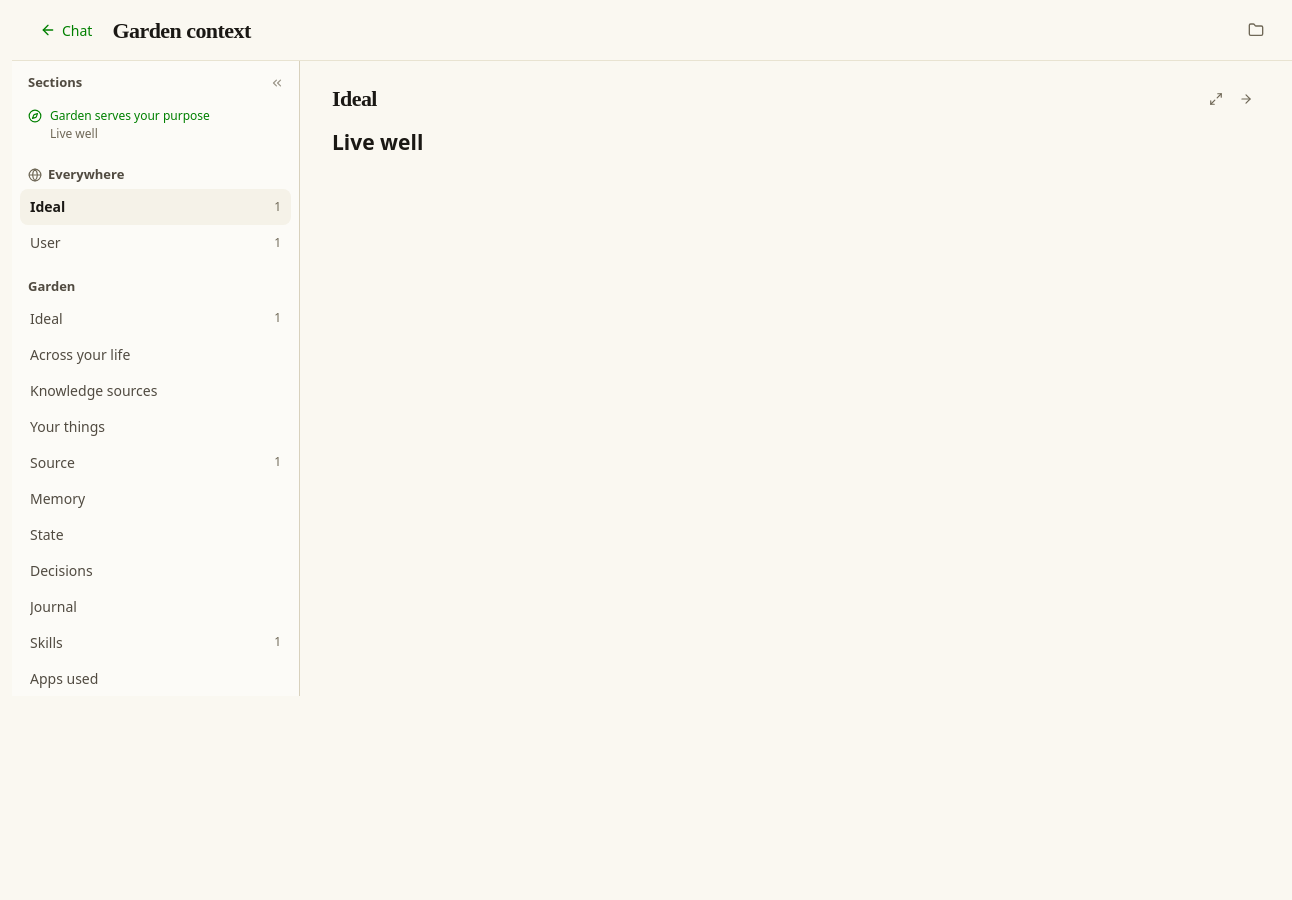
Test: DomainContextView › previews a Source file inline in one click
Click the button with test id "ctx-row-source". click: click(52, 462)
box: [20, 444, 291, 480]
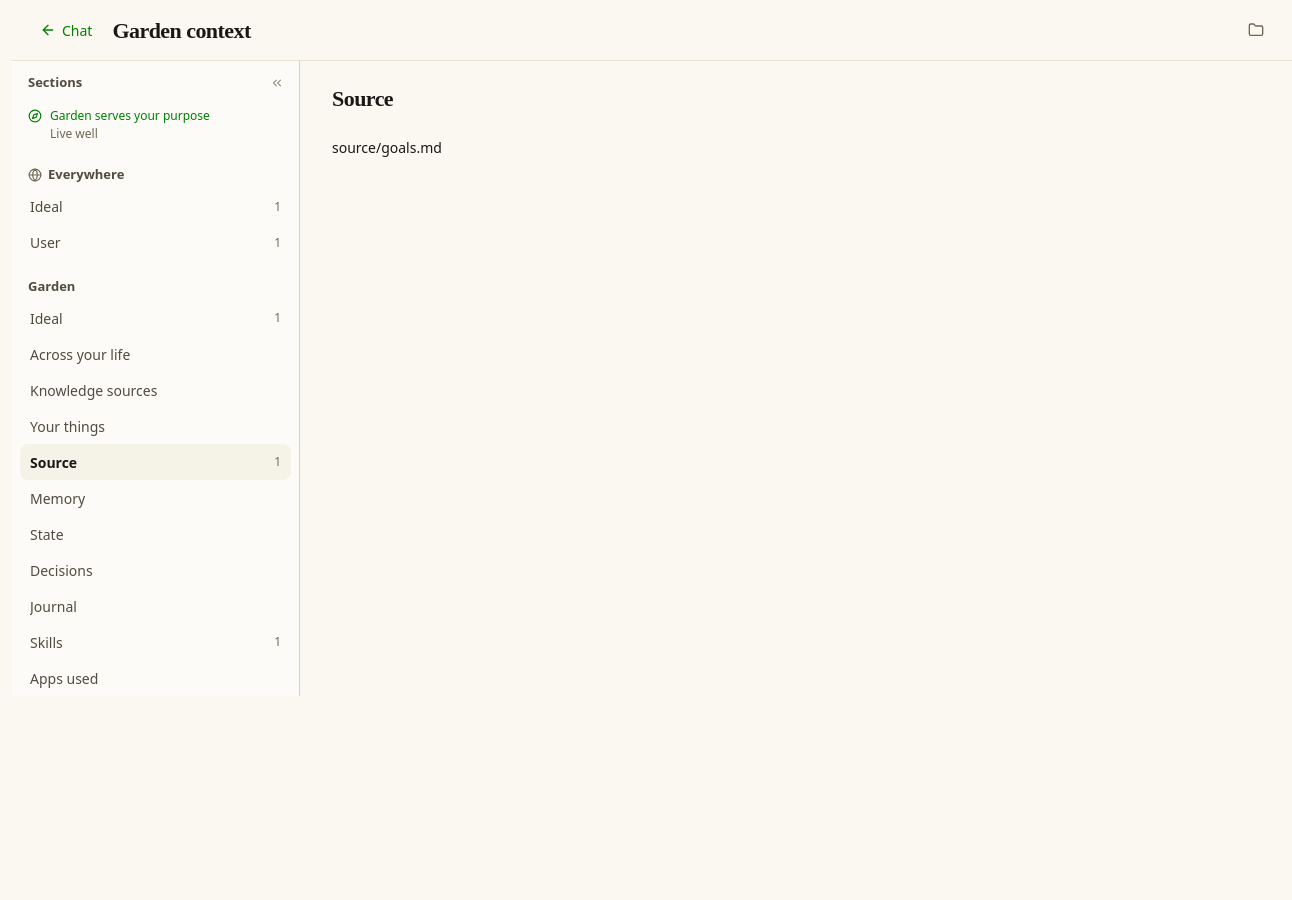
Click the button with test id "ctx-item-source/goals.md". click: click(387, 147)
box: [332, 128, 1068, 166]
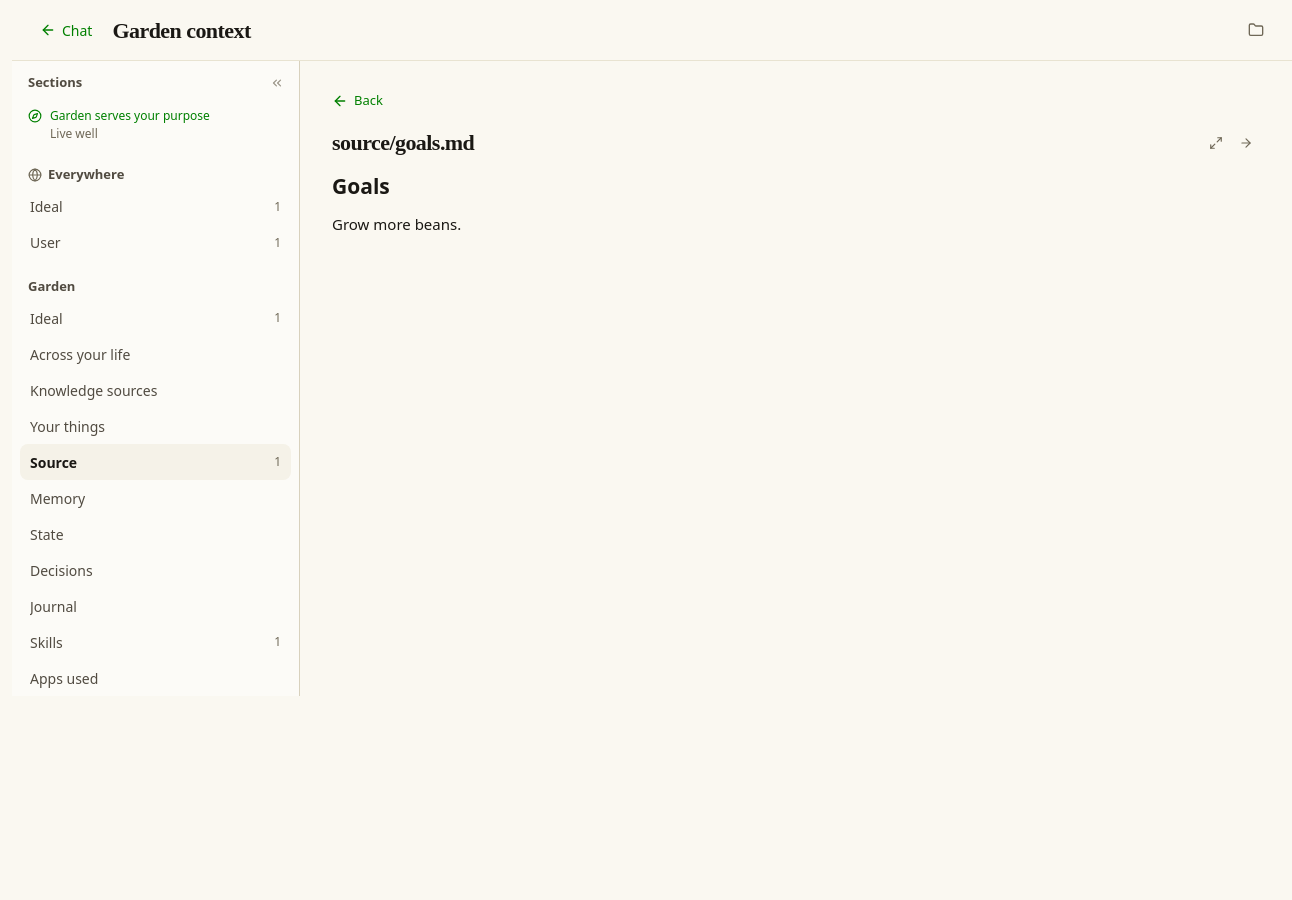
Check: the element with test id "ctx-preview" shows "Grow more beans.", box [332, 214, 461, 234]
